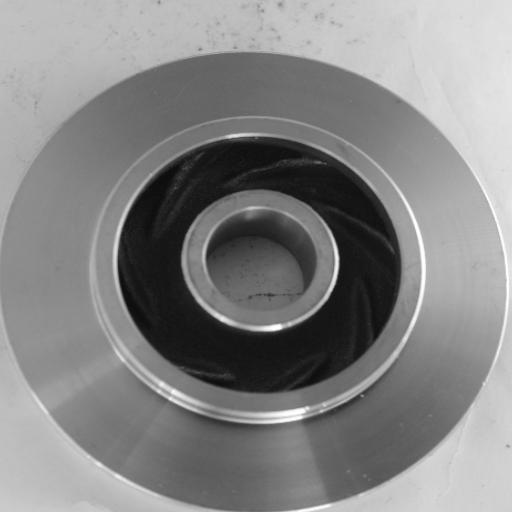polished_casting: (2, 49, 509, 512)
